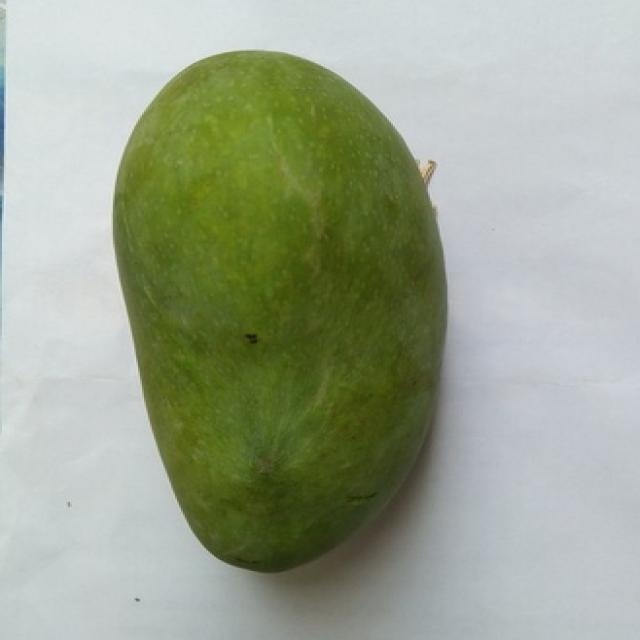Mango: (115, 51, 445, 571)
